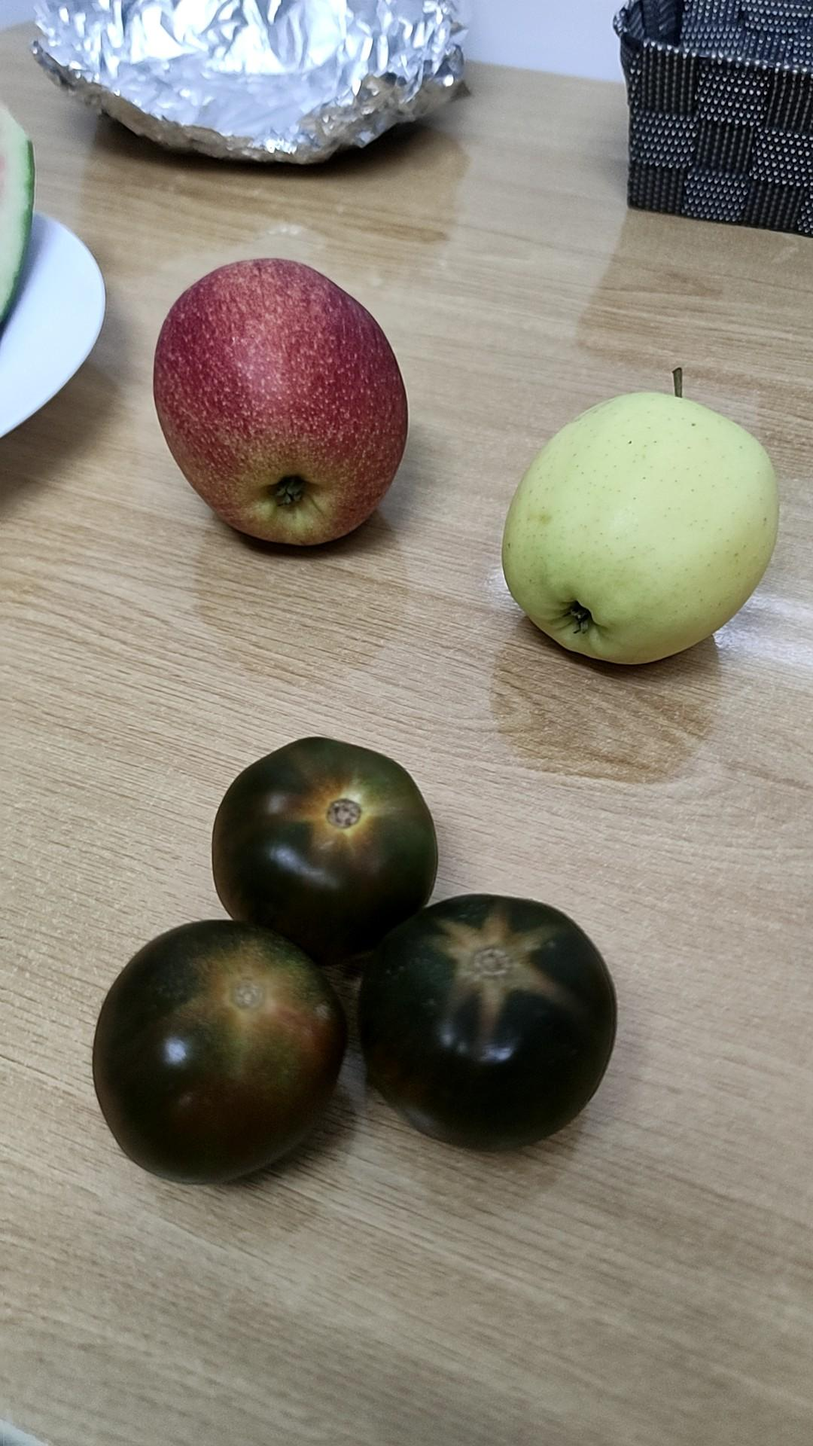fruit: (93, 737, 616, 1185), (502, 386, 778, 664), (154, 259, 406, 545)
